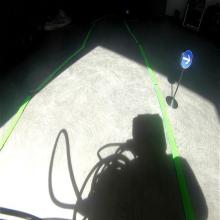right: (180, 48, 194, 70)
